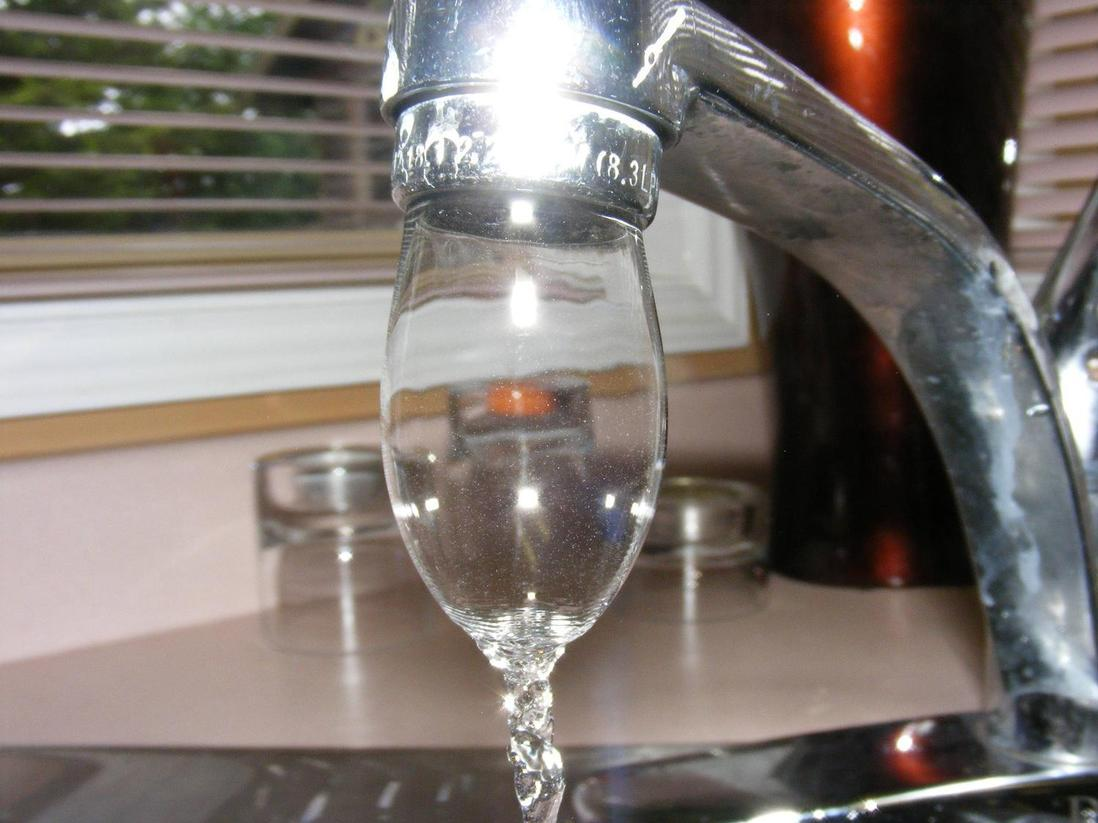glass of water: (389, 210, 655, 823)
